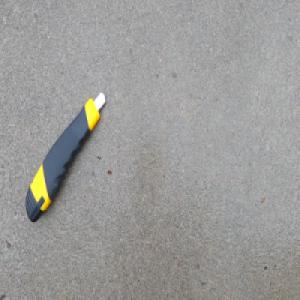Cutter: (26, 88, 106, 222)
